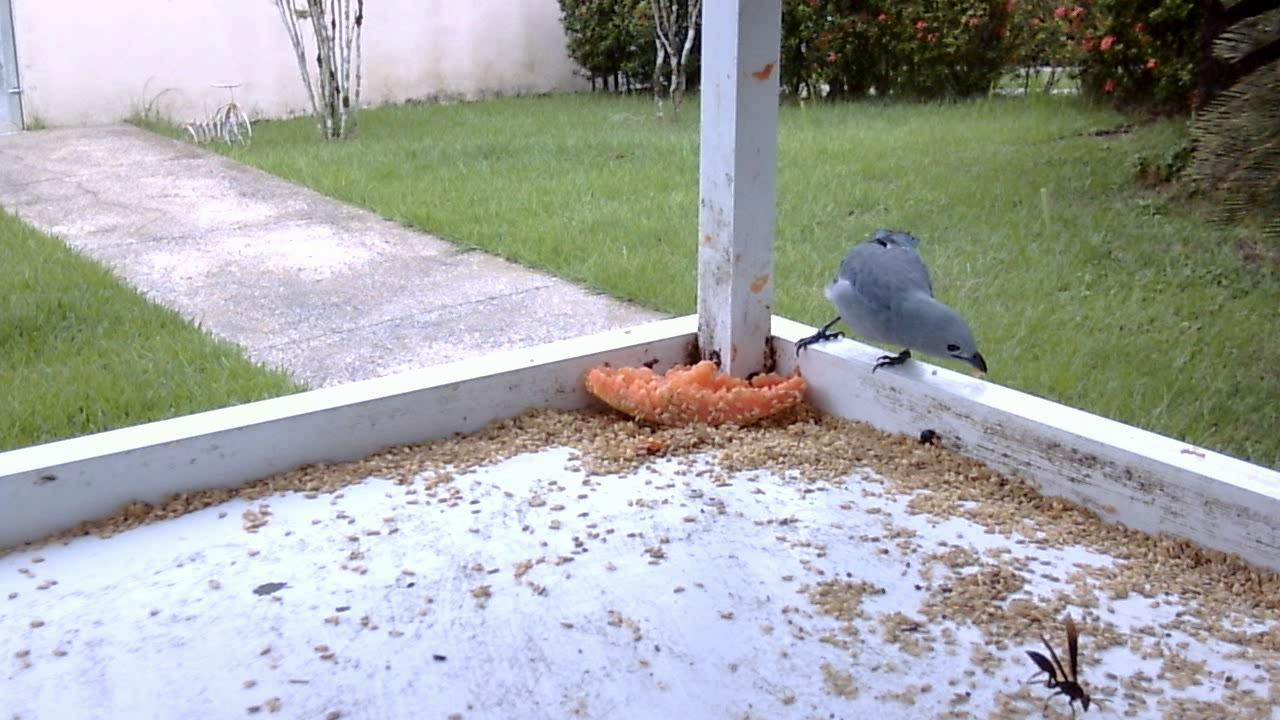sanhaco_da_amazonia: (786, 228, 996, 381)
